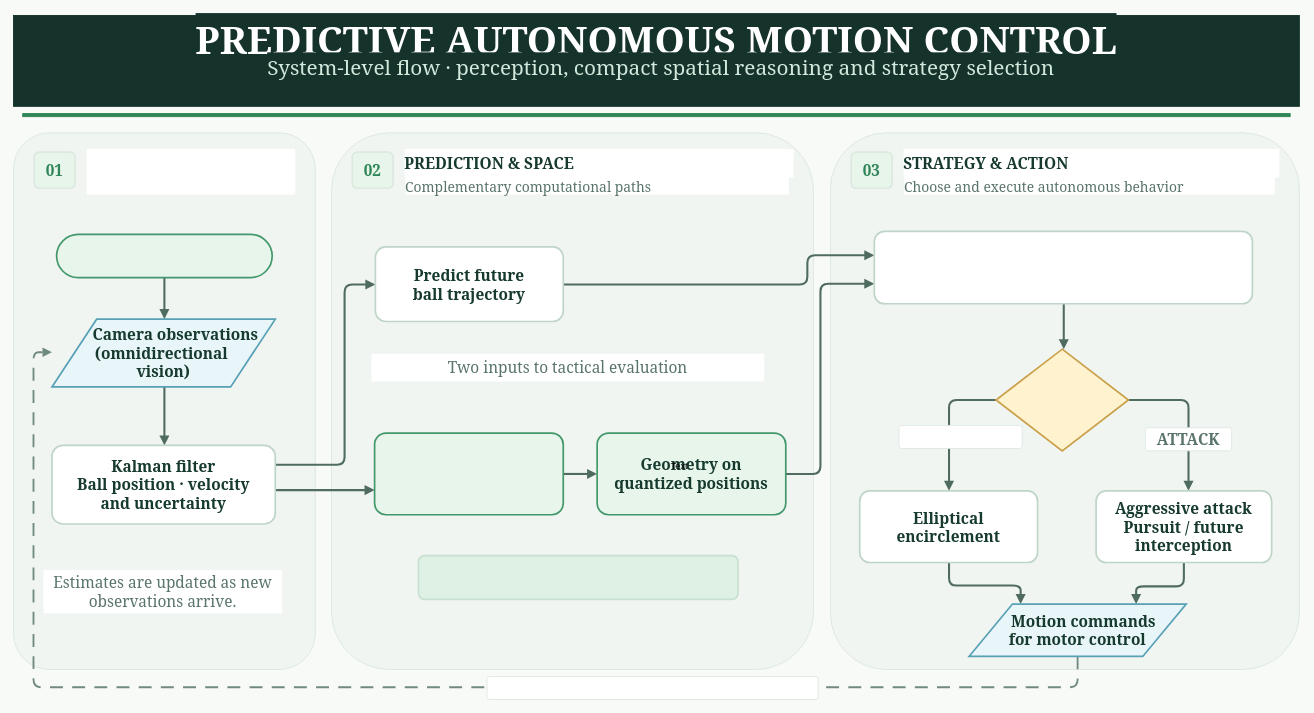
The diagram is 1314 pixels wide and 713 high, and some of its shapes have lost their labels. Each missing label, with the centre of its shape:
"8 × 3 bits · implicit hierarchy" belongs at (578,577).
"Acquire and estimate ball motion" belongs at (190,185).
"CONTROL CYCLE" belongs at (164,255).
"Eisenstein canonical encoding · 24-bit code" belongs at (468,473).
"ENCIRCLE" belongs at (960,437).
"Evaluate behaviors Arrival time · confidence · hysteresis" belongs at (1063,267).
"NEXT OBSERVATION / FEEDBACK" belongs at (652,688).
"PERCEPTION" belongs at (190,163).
"Selected strategy?" belongs at (1062,399).
